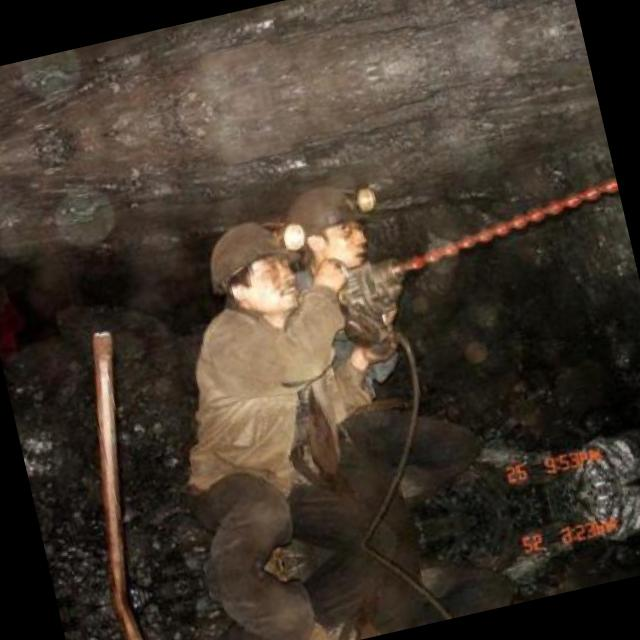helmet: (196, 206, 306, 326), (280, 172, 376, 274)
